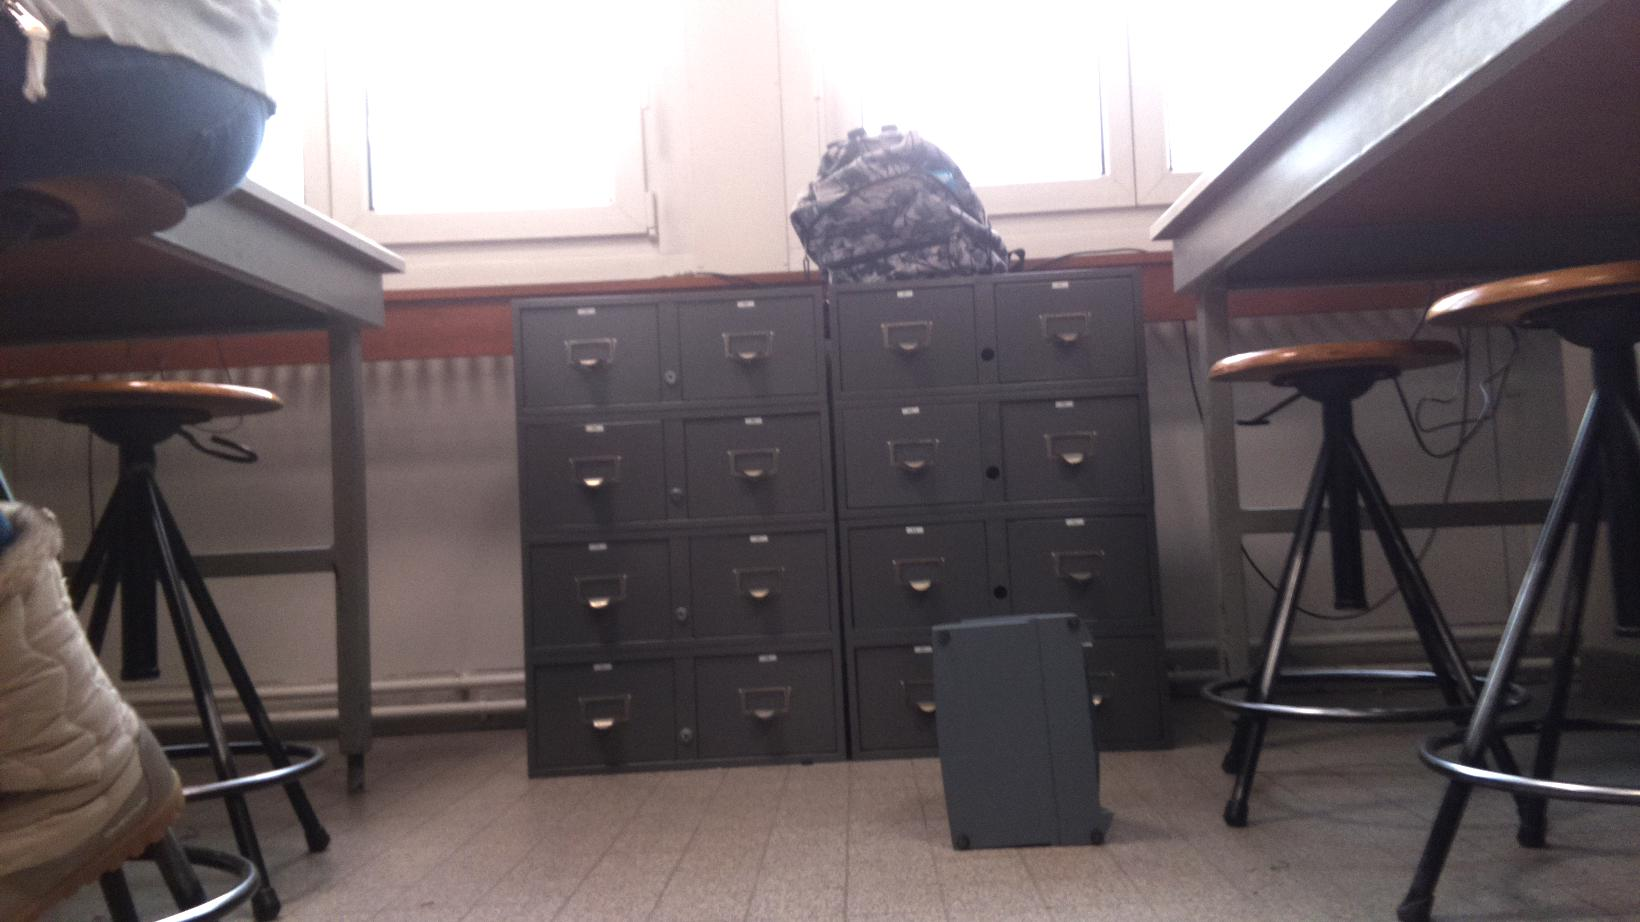big: (796, 132, 1001, 278)
medium: (932, 615, 1117, 848)
